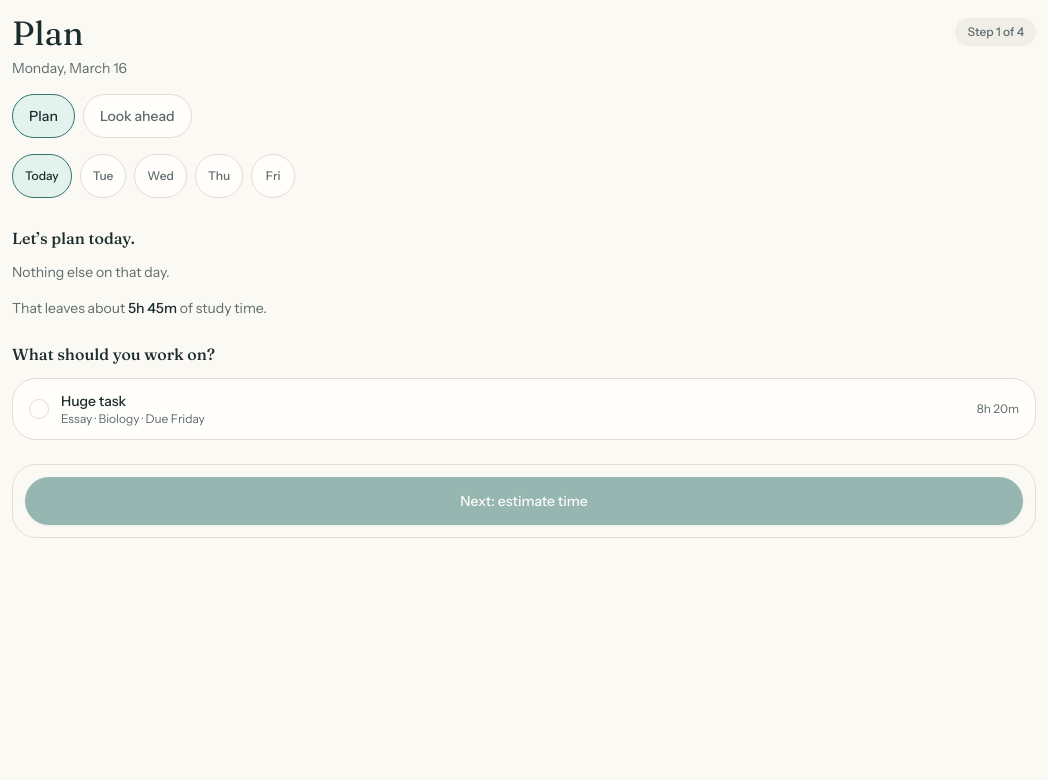
Test: PlanPage › shows a calm over-capacity notice without blocking progress when selected time exceeds capacity
The image size is (1048, 780).
Check: the text "Step 1 of 4" is shown, box [955,18,1036,46]
Click the button "Huge task Essay · Biology · Due Friday 8h 20m" at [94, 401], box [12,378,1036,440]
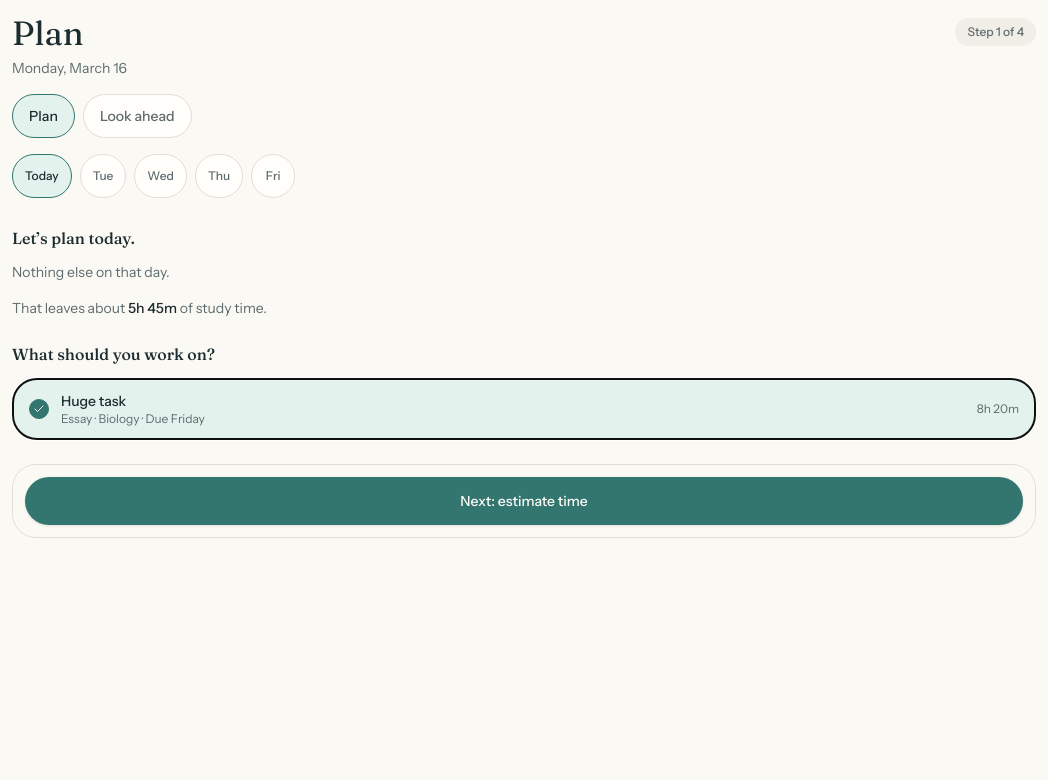
Click the button "Next: estimate time" at [524, 501], box [25,477,1023,525]
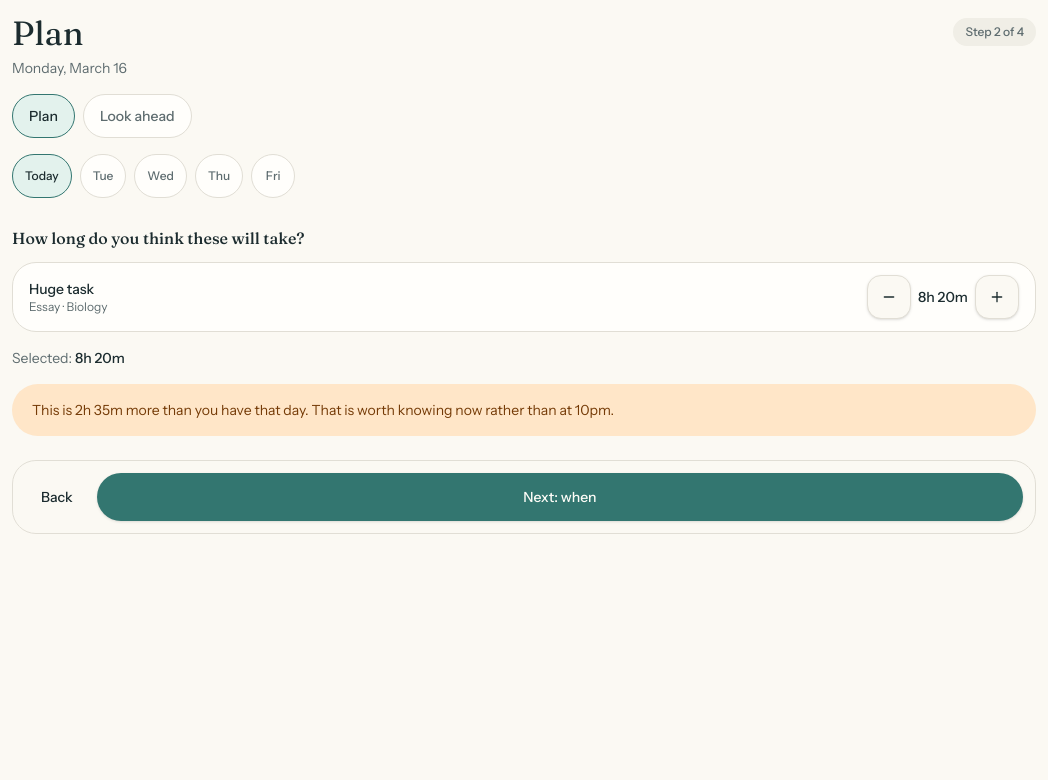
Check: the text "more than you have that day" is shown, box [123,401,614,419]
Check: the button "Next: when" is enabled, box [97,473,1023,521]
